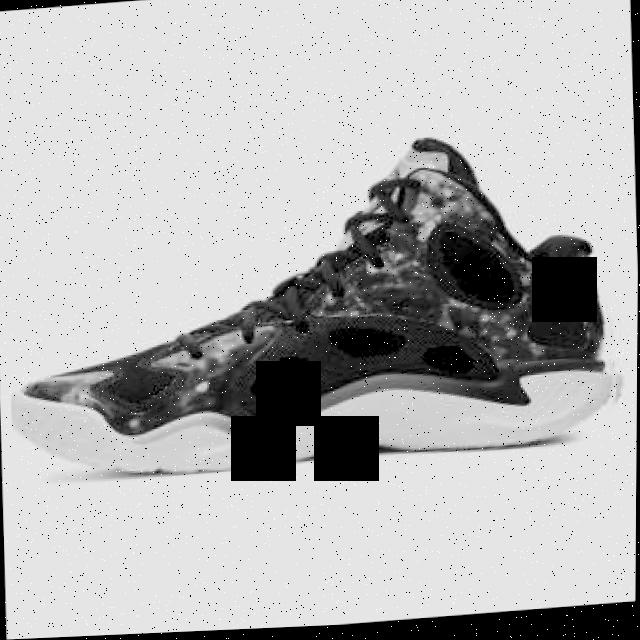shoe: (3, 125, 630, 488)
